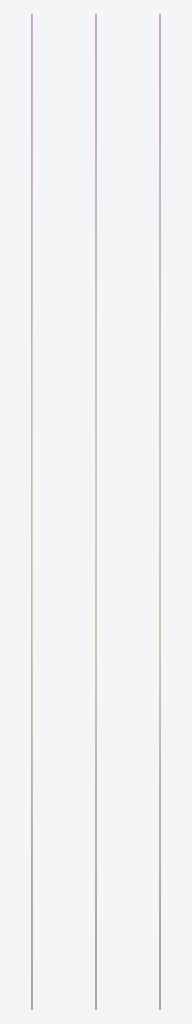
File: SM_DarklineSingleLine_8_seg.FBX
3 renders of one model, left to right at view 1: azimuth 90°, elevation 25°; view 2: azimuth 150°, elevation 25°; view 3: azimuth 270°, elevation 25°, orthographic.
Parts seen in each view (by area): view 1: SM_DarklineSingleLine_8_seg; view 2: SM_DarklineSingleLine_8_seg; view 3: SM_DarklineSingleLine_8_seg.
Part boxes in pixels (x1,y1,x2,y2): SM_DarklineSingleLine_8_seg: (31, 14, 32, 1009); SM_DarklineSingleLine_8_seg: (95, 14, 96, 1009); SM_DarklineSingleLine_8_seg: (159, 14, 160, 1009).
Bounding box in the file's own units: 0.015 × 0.0173 × 40.
